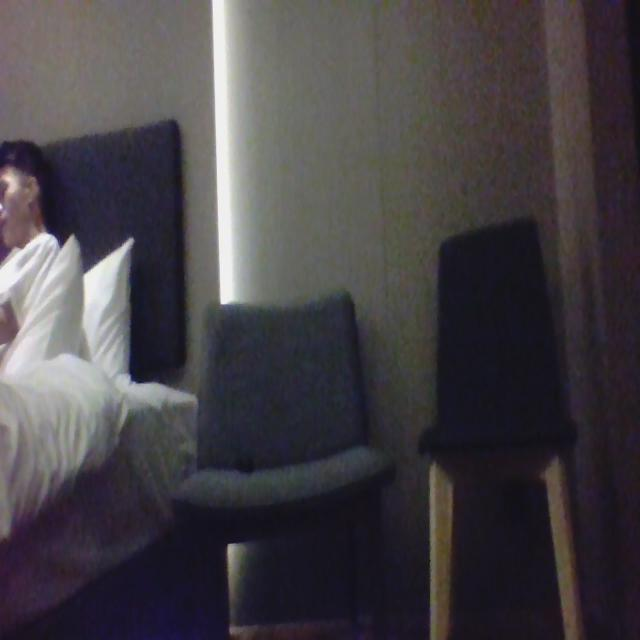empty: (192, 301, 373, 480), (418, 248, 538, 434)
